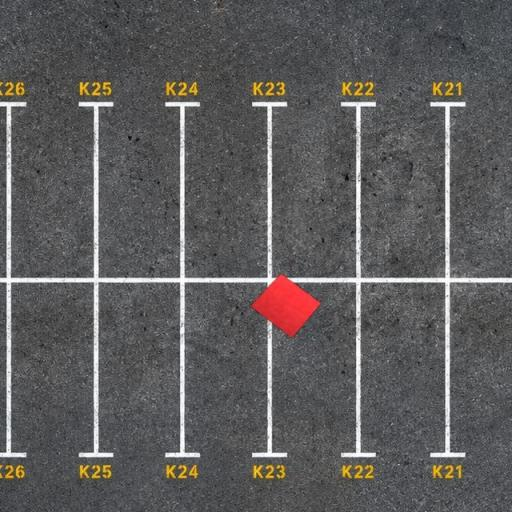RED_SQUARE: (250, 272, 322, 339)
